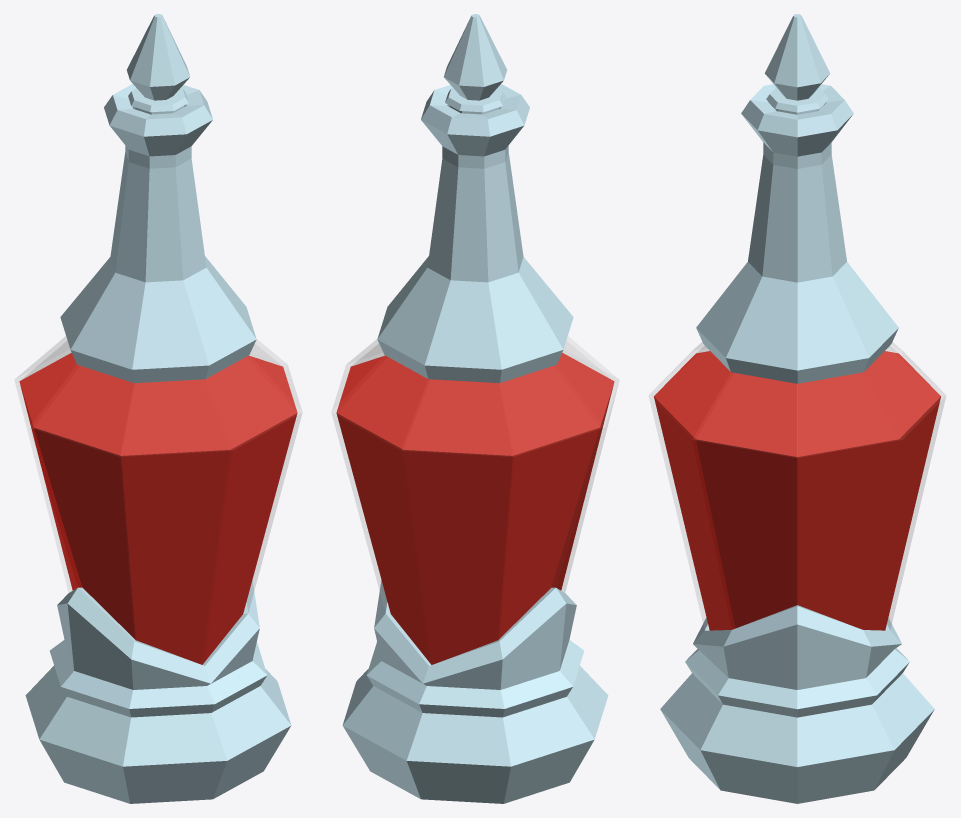
Rendered from Type_02_Red.fbx.
3 views of the same model, side by side, from view 1: azimuth 30°, elevation 25°; view 2: azimuth 150°, elevation 25°; view 3: azimuth 270°, elevation 25° (orthographic).
Parts seen in each view (by area): view 1: Type_02_Bottle_Red, Type_02_Cork_Red; view 2: Type_02_Bottle_Red, Type_02_Cork_Red; view 3: Type_02_Bottle_Red, Type_02_Cork_Red.
Boxes of the visible parts, x1,y1,x2,y2 form: Type_02_Bottle_Red: (14,84,302,803); Type_02_Cork_Red: (127,14,189,114); Type_02_Bottle_Red: (331,84,619,803); Type_02_Cork_Red: (444,14,506,114); Type_02_Bottle_Red: (649,84,945,803); Type_02_Cork_Red: (764,14,830,114).
Bounding box in the file's own units: 15 × 41.23 × 15.
